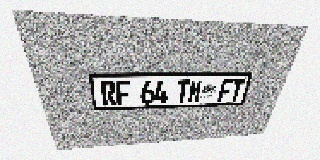4: (154, 80, 168, 104)
6: (141, 80, 155, 104)
F: (217, 79, 234, 102), (115, 81, 131, 105)
M: (188, 80, 203, 103)
R: (100, 81, 117, 106)
T: (229, 79, 246, 101), (175, 80, 190, 103)
